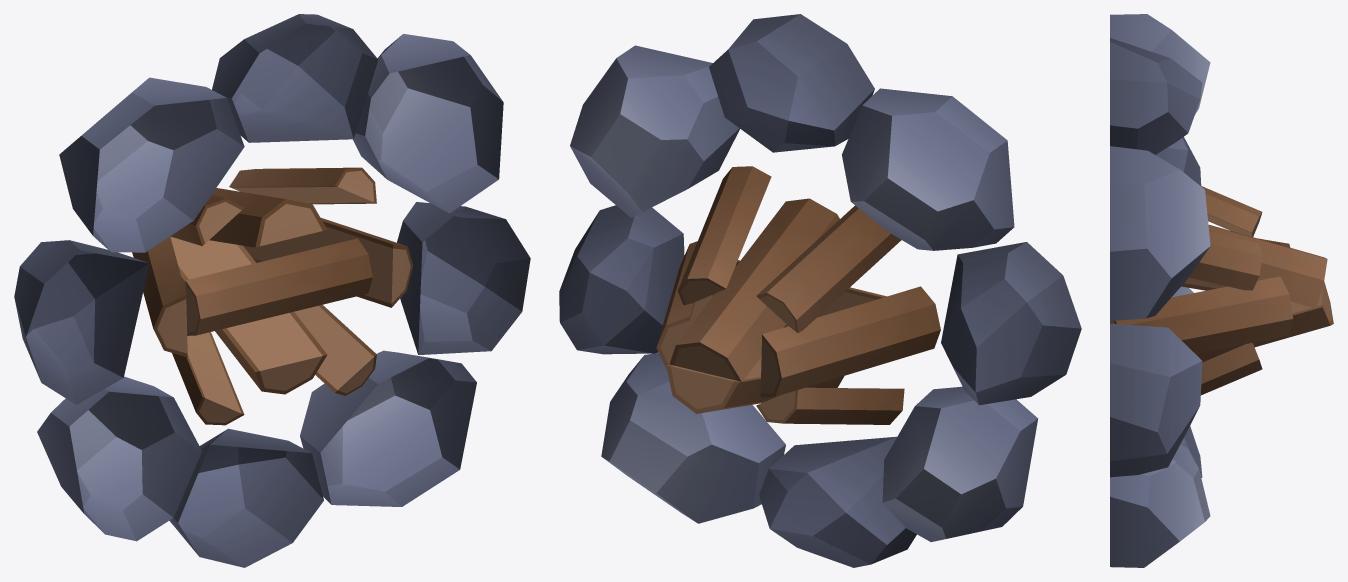
File: camp-bonfire.obj
3 renders of one model, left to right at view 1: azimuth 30°, elevation 25°; view 2: azimuth 150°, elevation 25°; view 3: azimuth 270°, elevation 25°, orthographic. The views are drawn at different scales.
Parts seen in each view (by area): view 1: camp-bonfire; view 2: camp-bonfire; view 3: camp-bonfire.
Boxes of the visible parts, <box> form: camp-bonfire: <box>14,14,530,567</box>; camp-bonfire: <box>559,14,1081,567</box>; camp-bonfire: <box>1110,14,1333,567</box>.
Bounding box in the file's own units: 1.26 × 1.26 × 0.5141.
Materials: 1 (1 with a texture image).
